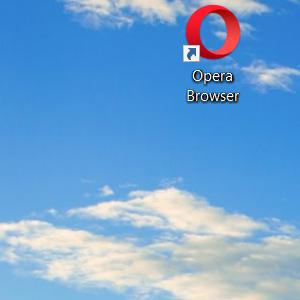opera: (182, 4, 241, 63)
